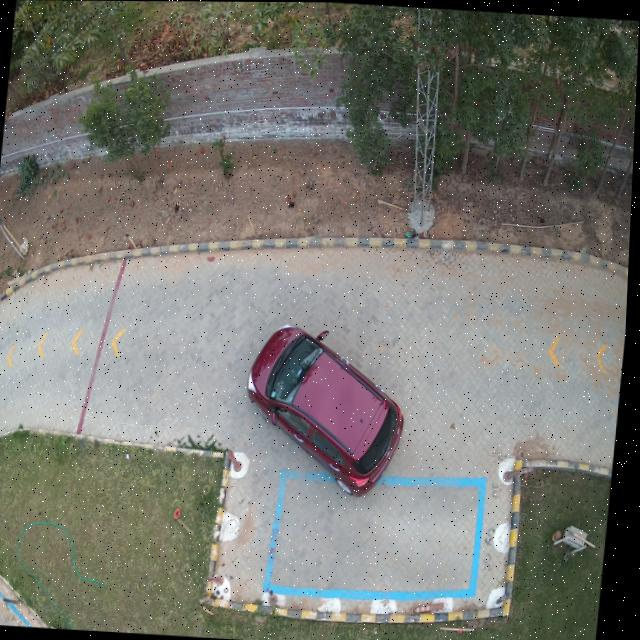car: (250, 326, 408, 496)
